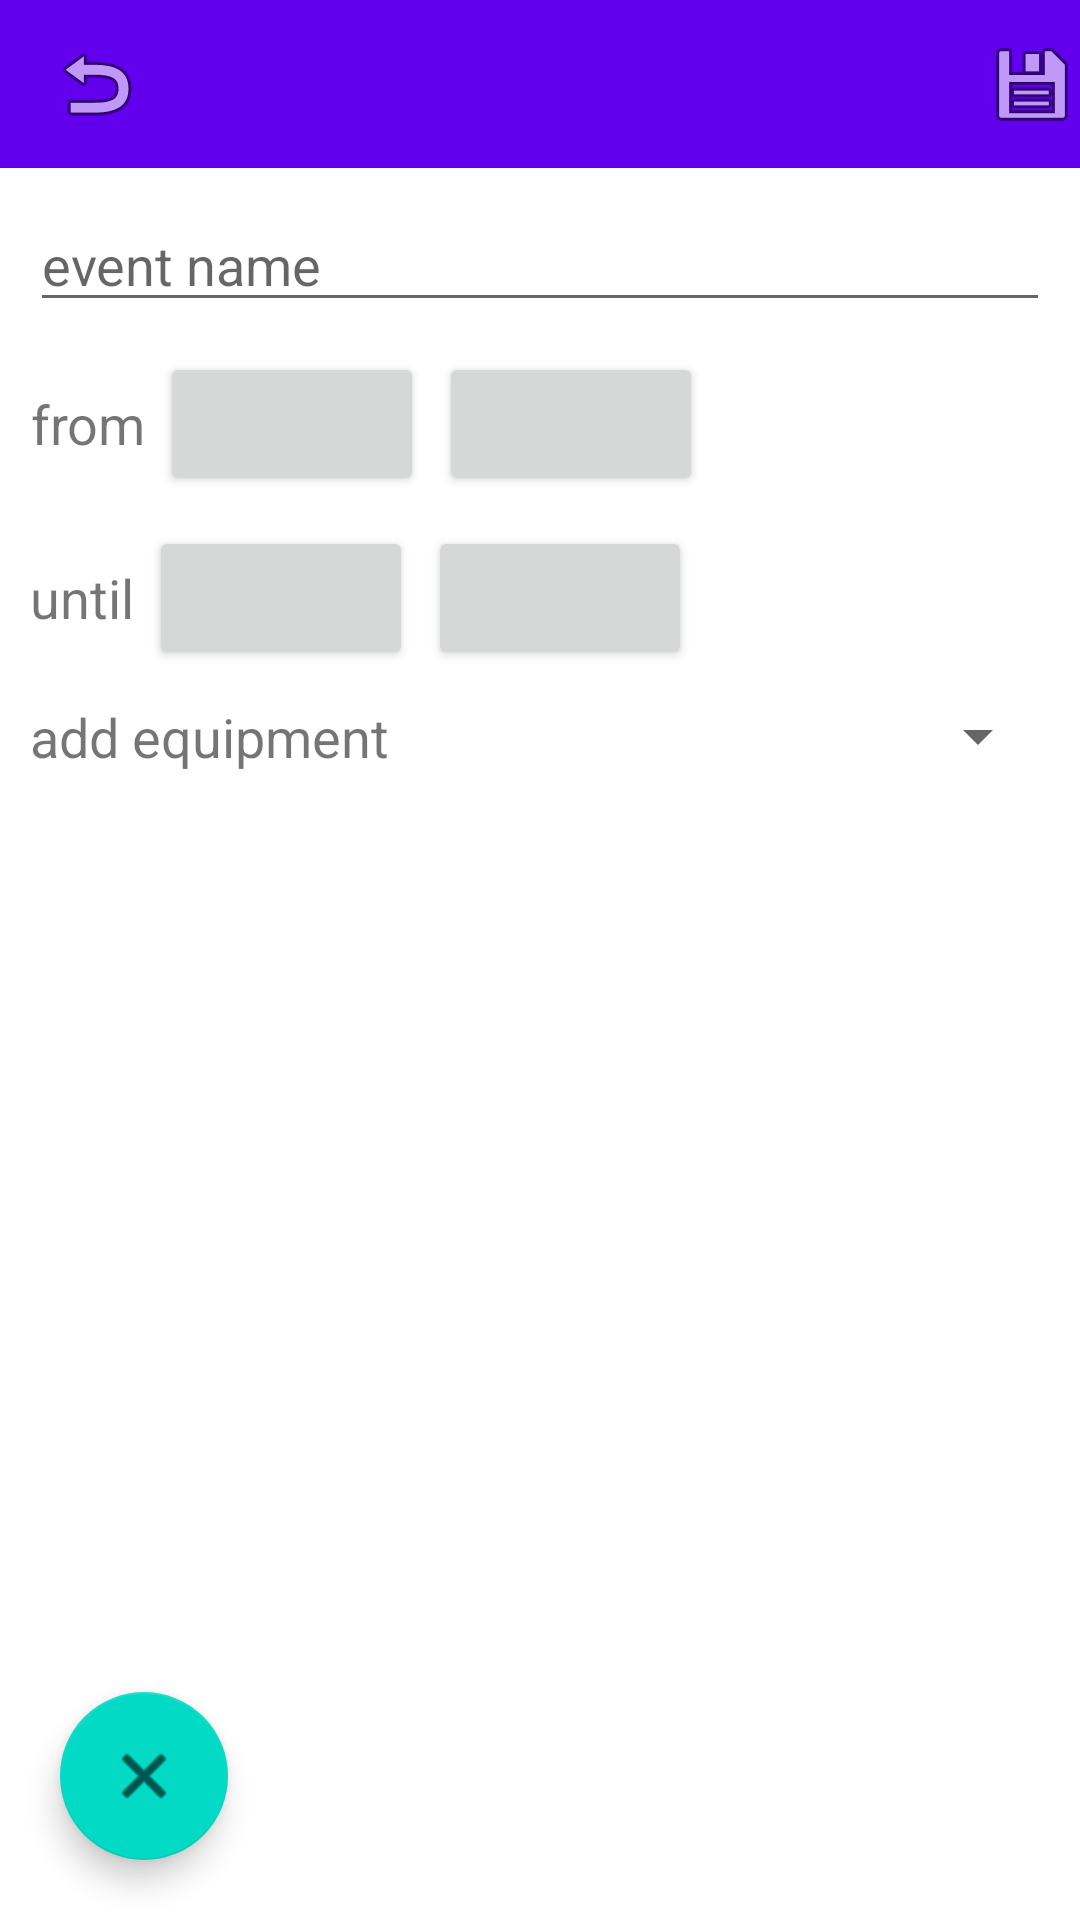

Icon bounding boxes for this 1080px x 1920px phone screenshot, format (x1, y1, x2, y2):
delete event: (60, 1692, 228, 1860)
save: (996, 48, 1068, 121)
